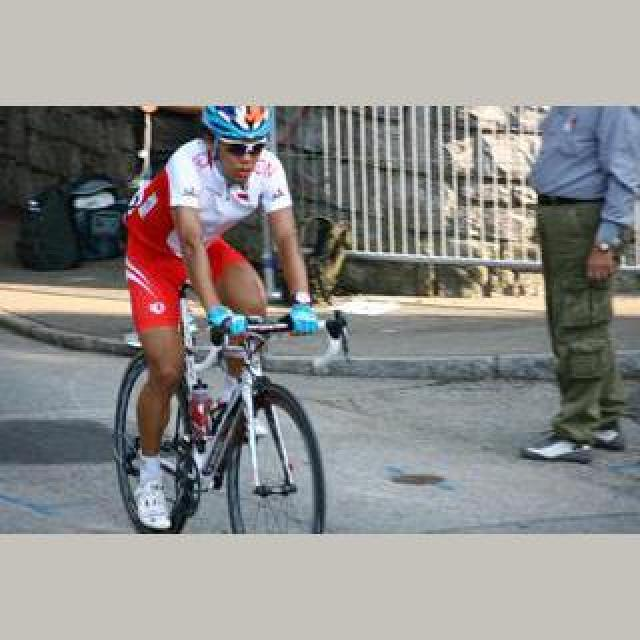MC-Bike: (120, 100, 330, 526), (520, 106, 640, 464)
Person: (110, 304, 330, 534)
